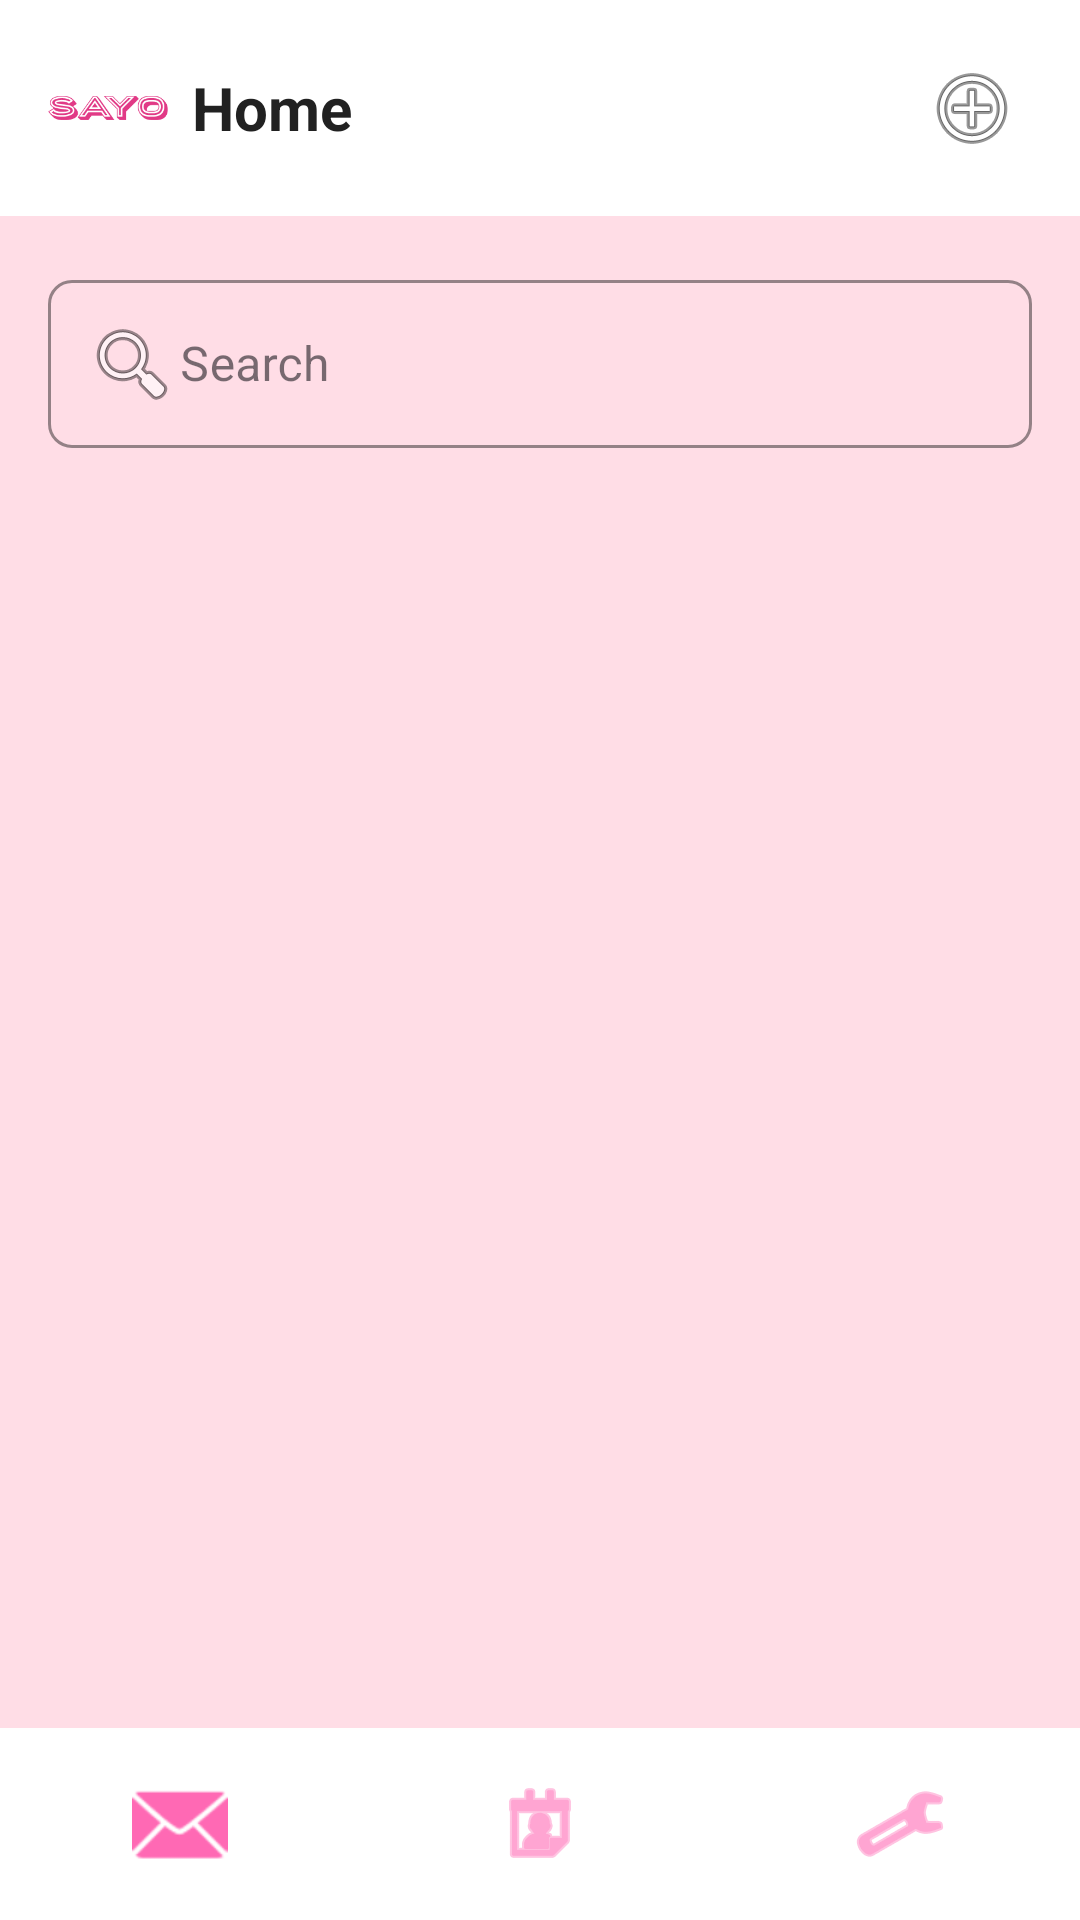

Icon click points for this 1080 × 1920 phone screenshot, format (x,y):
Add Button: (972,108)
Messages: (180,1825)
Profile: (540,1823)
Settings: (900,1824)
